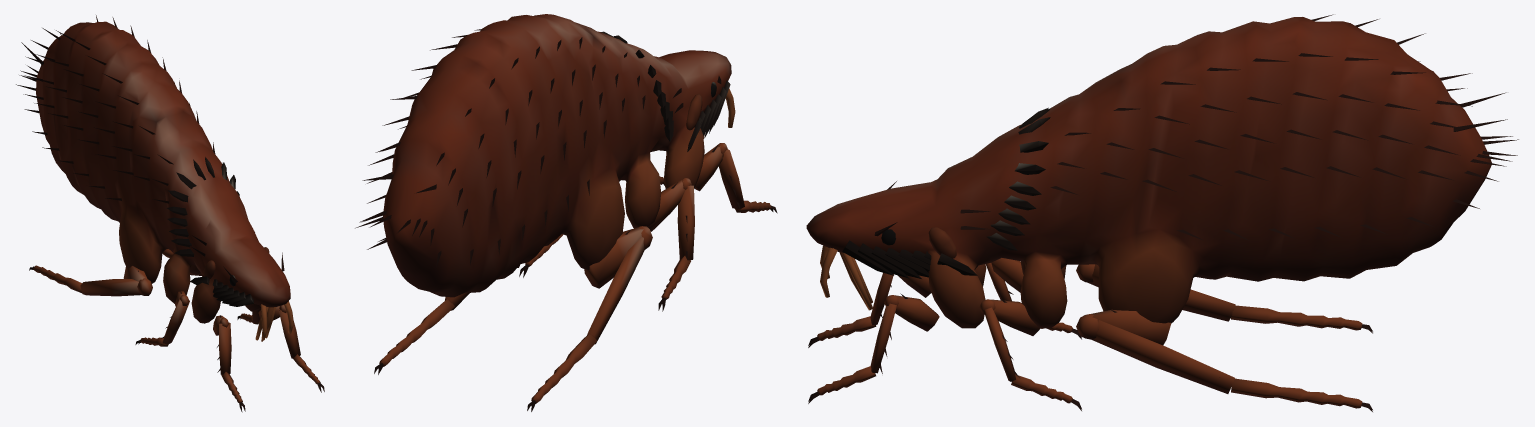
File: CatFlea.fbx
3 views of the same model, side by side, from view 1: azimuth 30°, elevation 25°; view 2: azimuth 150°, elevation 25°; view 3: azimuth 270°, elevation 25° (orthographic). The views are drawn at different scales.
Visible parts, largest first — view 1: CatFlea; view 2: CatFlea; view 3: CatFlea.
Boxes of the visible parts, x1,y1,x2,y2 form: CatFlea: (16,15,324,412); CatFlea: (355,14,777,411); CatFlea: (806,14,1518,411).
Bounding box in the file's own units: 0.3174 × 0.6344 × 1.16.
